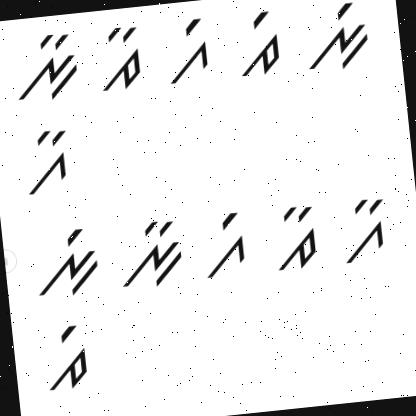gan: (15, 121, 74, 199), (336, 193, 392, 270)
gang: (194, 210, 252, 286), (158, 16, 213, 86)
ngan: (111, 214, 189, 294), (5, 33, 82, 108)
ngang: (32, 224, 102, 300), (301, 0, 373, 72)
tan: (270, 198, 324, 272), (93, 25, 146, 95)
tang: (228, 7, 283, 78), (39, 324, 93, 396)
